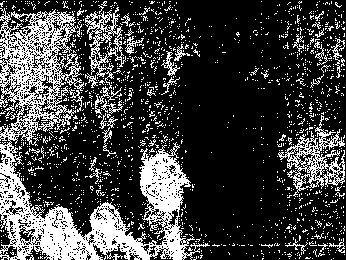person: (144, 148, 191, 257), (83, 201, 141, 260), (35, 207, 90, 260)
